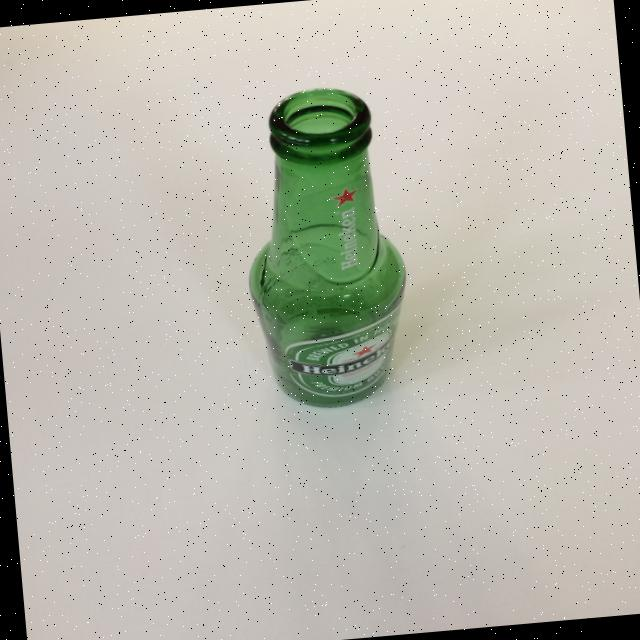glass: (233, 85, 415, 412)
